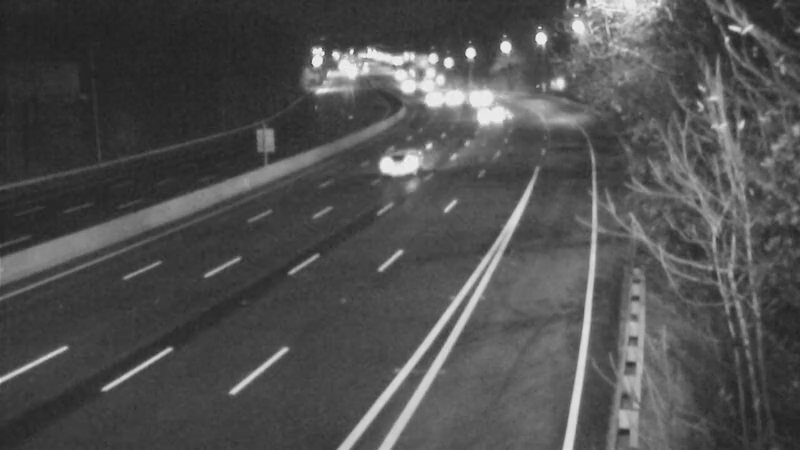vehicle: (359, 121, 439, 201), (384, 63, 434, 113), (431, 74, 481, 124), (406, 74, 456, 124), (451, 75, 501, 125), (469, 89, 519, 139)
